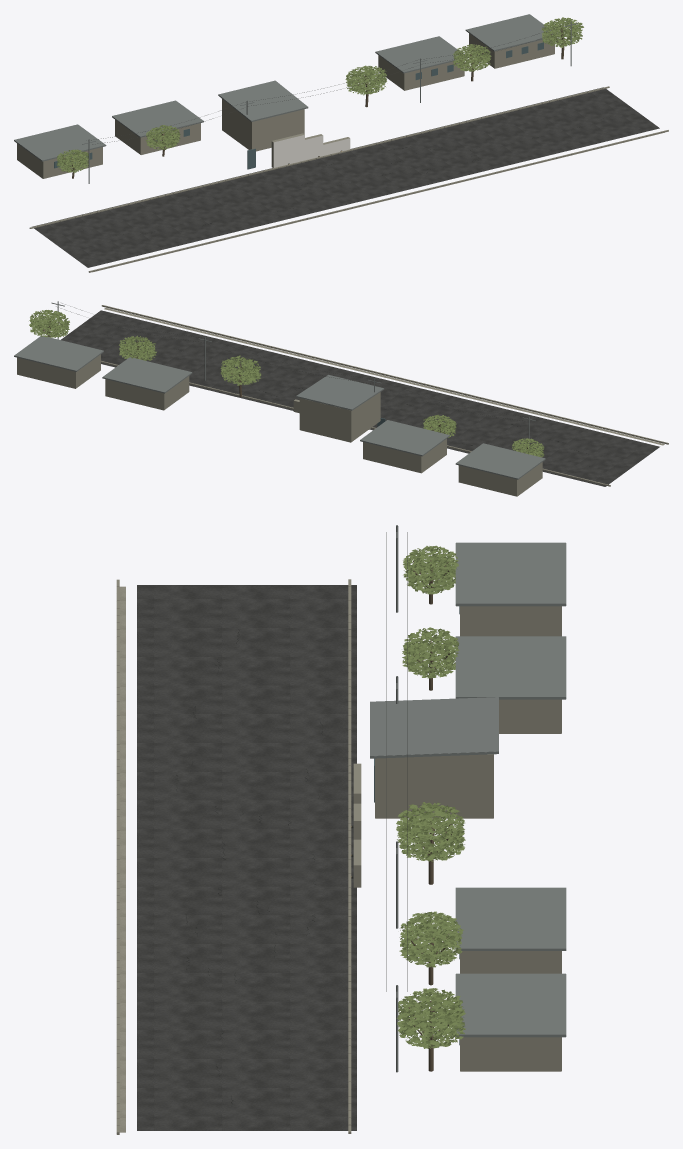
File: base-stepped.glb
3 renders of one model, top to bottom at view 1: azimuth 30°, elevation 25°; view 2: azimuth 150°, elevation 25°; view 3: azimuth 270°, elevation 25°, orthographic. The views are drawn at different scales.
Visible parts, largest first — view 1: stepped_asphalt, stepped_concrete, stepped_roof, stepped_leaves, stepped_stone_carpet, stepped_window, stepped_wire; view 2: stepped_asphalt, stepped_concrete, stepped_roof, stepped_leaves, stepped_wire; view 3: stepped_asphalt, stepped_roof, stepped_concrete, stepped_leaves, stepped_bark, stepped_wire.
Boxes of the visible parts, x1,y1,x2,y2 form: stepped_asphalt: (32, 87, 659, 267); stepped_concrete: (17, 33, 668, 272); stepped_roof: (14, 14, 577, 183); stepped_leaves: (56, 17, 583, 173); stepped_stone_carpet: (273, 135, 350, 167); stepped_window: (54, 42, 543, 169); stepped_wire: (91, 23, 573, 144); stepped_asphalt: (61, 310, 659, 486); stepped_concrete: (17, 305, 668, 496); stepped_roof: (14, 301, 545, 479); stepped_leaves: (29, 310, 544, 457); stepped_wire: (56, 303, 530, 421); stepped_asphalt: (137, 585, 356, 1130); stepped_roof: (370, 525, 566, 1072); stepped_concrete: (116, 579, 561, 1134); stepped_leaves: (396, 545, 465, 1048); stepped_bark: (408, 560, 452, 1071); stepped_wire: (386, 532, 407, 991).
Size of what is drawn, in the model's own units: 76.98 by 8.13 by 26.44.
10 materials, 3 textured.
